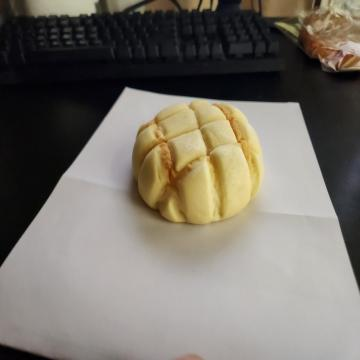melon_bread: (134, 99, 264, 225)
